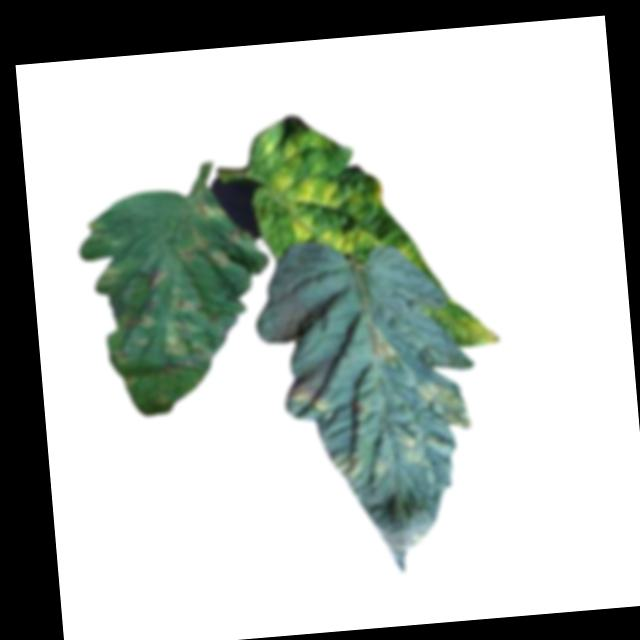Leaf_Mold: (270, 171, 366, 260), (418, 378, 472, 432), (176, 222, 228, 273), (283, 373, 339, 418), (396, 422, 441, 465), (159, 315, 196, 364), (188, 183, 232, 218), (367, 320, 400, 366), (459, 313, 500, 349), (117, 300, 158, 336), (330, 450, 363, 482), (138, 265, 170, 294), (96, 264, 124, 293), (370, 180, 388, 206)
